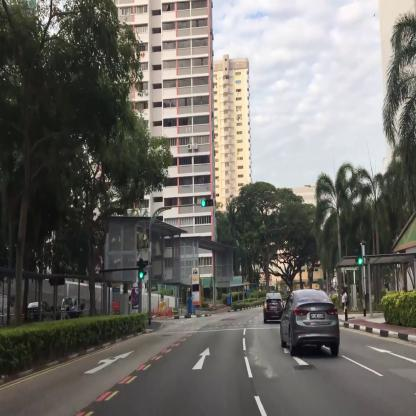green_traffic_light: (358, 246, 362, 265), (201, 200, 213, 205), (140, 261, 142, 279)
